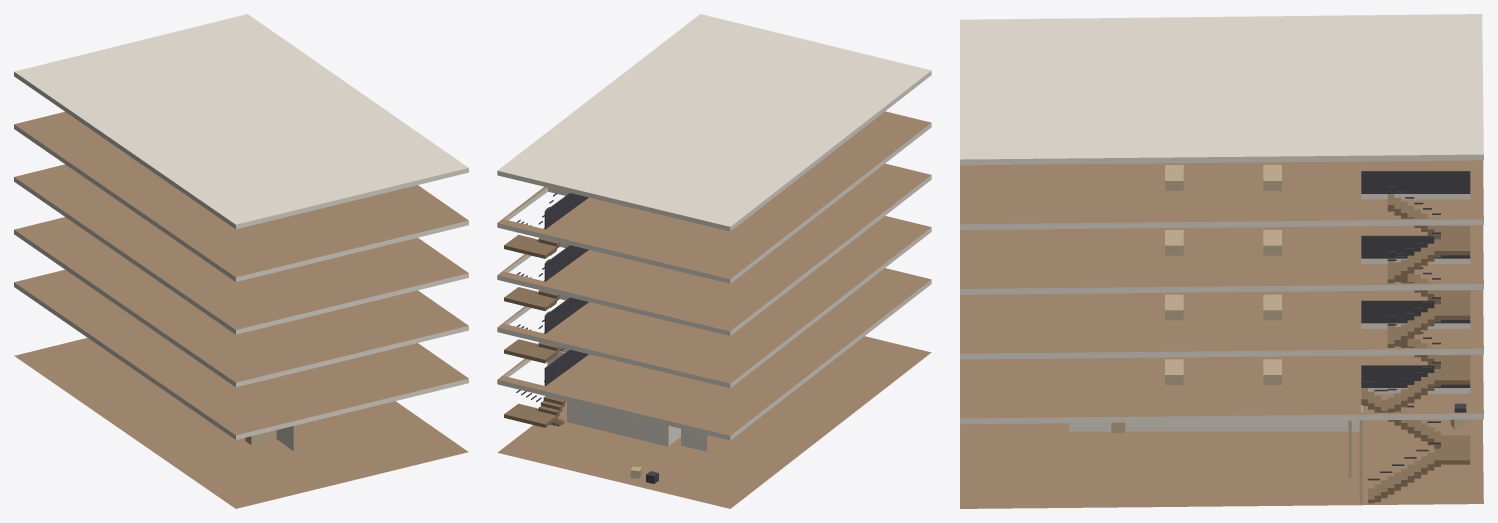
File: interior.glb
The picture shows the model from 3 angles, left to right: view 1: azimuth 30°, elevation 25°; view 2: azimuth 150°, elevation 25°; view 3: azimuth 270°, elevation 25°; orthographic projection. The views are drawn at different scales.
Parts seen in each view (by area): view 1: slabs; view 2: slabs, stair, partitions; view 3: slabs, stair, partitions, coarse-s2, coarse-s1, coarse-s3, coarse-s4.
Part boxes in pixels (left/top/right/bottom): slabs: left=14, top=14, right=468, bottom=508; slabs: left=497, top=14, right=931, bottom=508; stair: left=504, top=193, right=588, bottom=427; partitions: left=547, top=351, right=707, bottom=451; slabs: left=960, top=14, right=1483, bottom=508; stair: left=1361, top=171, right=1470, bottom=503; partitions: left=1069, top=405, right=1362, bottom=503; coarse-s2: left=1165, top=294, right=1281, bottom=320; coarse-s1: left=1165, top=359, right=1281, bottom=384; coarse-s3: left=1165, top=230, right=1281, bottom=255; coarse-s4: left=1165, top=165, right=1281, bottom=190.
Bounding box in the file's own units: 14.01 × 15.71 × 21.31.
